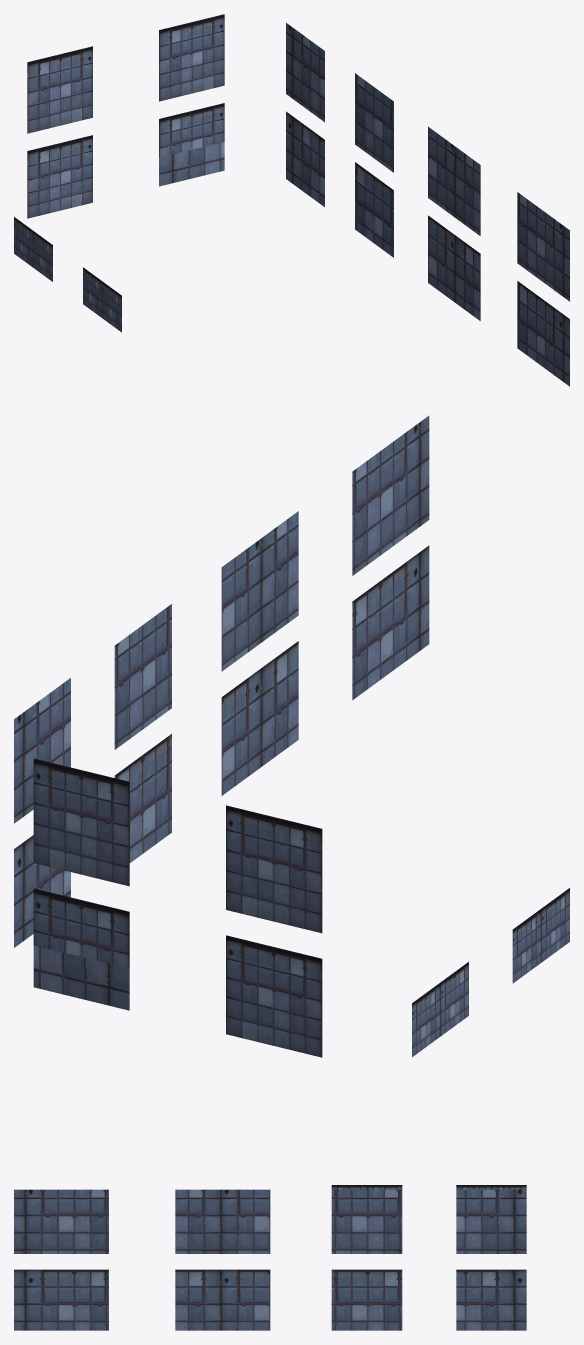
Rendered from windows001_windowdarka_dm_0_lev1.glb.
3 renders of one model, top to bottom at view 1: azimuth 30°, elevation 25°; view 2: azimuth 150°, elevation 25°; view 3: azimuth 270°, elevation 25°, orthographic. The views are drawn at different scales.
Visible parts, largest first — view 1: windows001_windowdarka_dm_0_lev1; view 2: windows001_windowdarka_dm_0_lev1; view 3: windows001_windowdarka_dm_0_lev1.
Part boxes in pixels (x1=…): windows001_windowdarka_dm_0_lev1: x1=14, y1=14, x2=569, y2=386; windows001_windowdarka_dm_0_lev1: x1=14, y1=415, x2=569, y2=1057; windows001_windowdarka_dm_0_lev1: x1=14, y1=1185, x2=526, y2=1330.
Size of the model in its own units: 6.21 by 3.59 by 12.17.
Materials: 1 (1 with a texture image).
